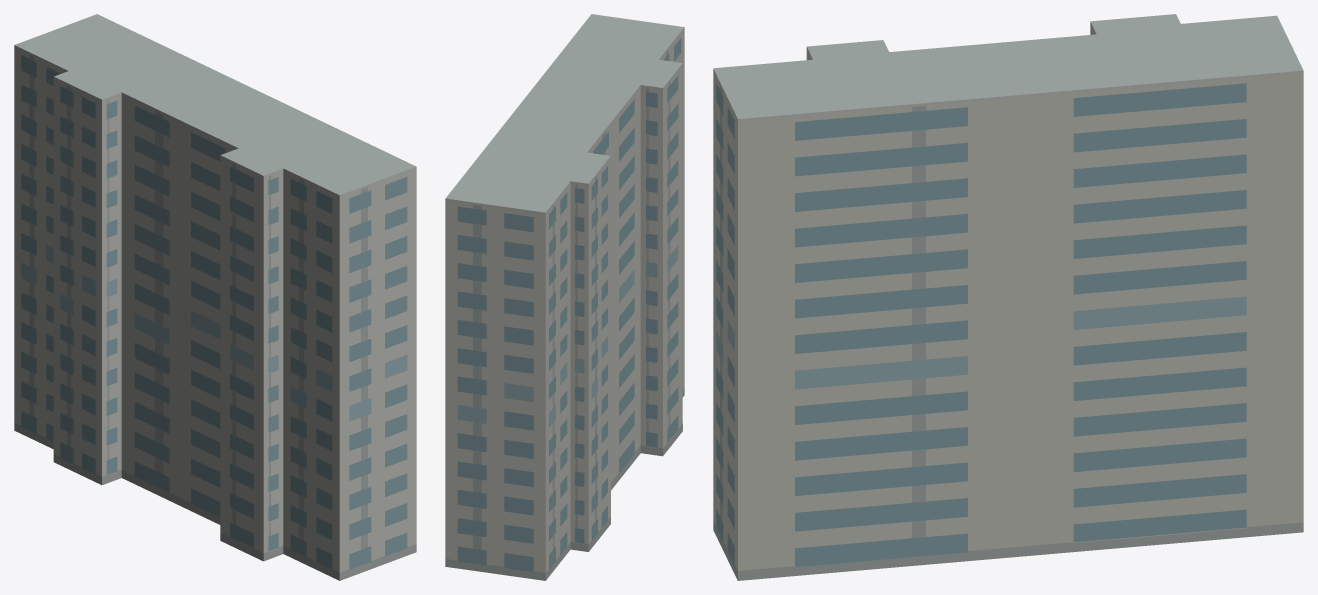
File: residential-5f4c922e-274e-412f-8c2d-1b463b4e0111.glb
3 views of the same model, side by side, from view 1: azimuth 30°, elevation 25°; view 2: azimuth 150°, elevation 25°; view 3: azimuth 270°, elevation 25° (orthographic). The views are drawn at different scales.
Parts seen in each view (by area): view 1: residential-5f4c922e-274e-412f-8c2d-1b463b4e0111.tmp; view 2: residential-5f4c922e-274e-412f-8c2d-1b463b4e0111.tmp; view 3: residential-5f4c922e-274e-412f-8c2d-1b463b4e0111.tmp.
Part boxes in pixels (x1,y1,x2,y2): residential-5f4c922e-274e-412f-8c2d-1b463b4e0111.tmp: (14, 14, 416, 580); residential-5f4c922e-274e-412f-8c2d-1b463b4e0111.tmp: (445, 14, 684, 580); residential-5f4c922e-274e-412f-8c2d-1b463b4e0111.tmp: (713, 14, 1303, 580).
Bounding box in the file's own units: 20.52 × 42 × 48.67.
